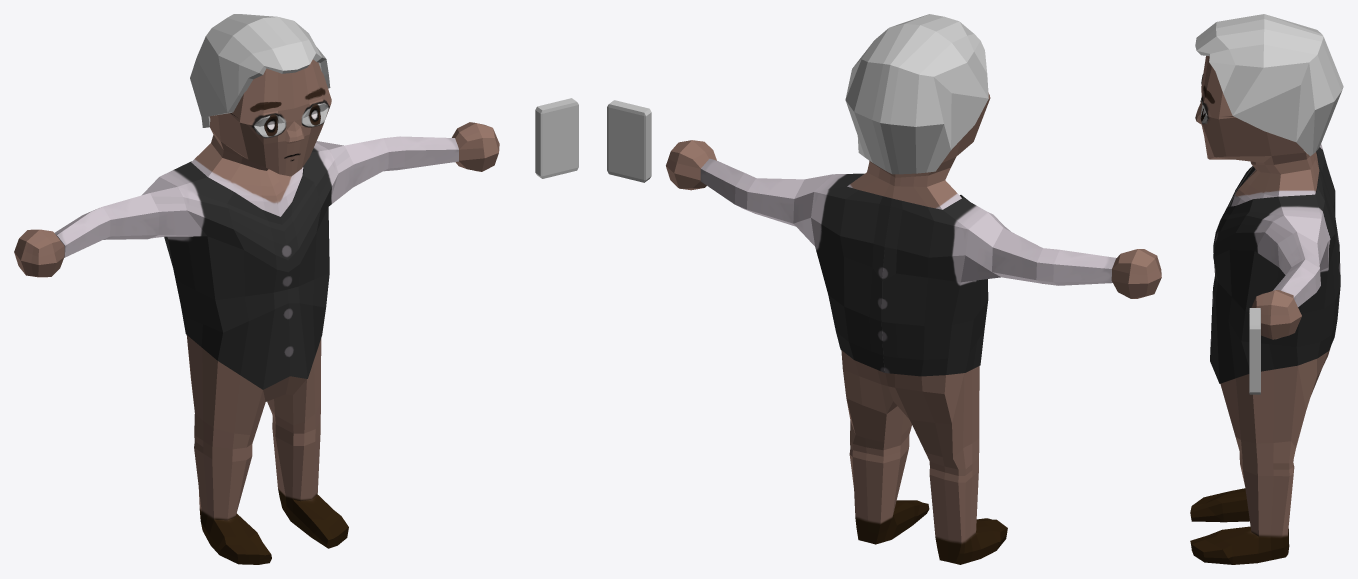
The model's file is Minion.fbx.
3 renders of one model, left to right at view 1: azimuth 30°, elevation 25°; view 2: azimuth 150°, elevation 25°; view 3: azimuth 270°, elevation 25°, orthographic. The views are drawn at different scales.
Visible parts, largest first — view 1: corpo, celular; view 2: corpo, celular; view 3: corpo, celular.
Boxes of the visible parts, x1=… form: corpo: x1=14, y1=14, x2=499, y2=564; celular: x1=535, y1=98, x2=578, y2=178; corpo: x1=666, y1=14, x2=1161, y2=564; celular: x1=607, y1=100, x2=651, y2=182; corpo: x1=1190, y1=14, x2=1343, y2=564; celular: x1=1249, y1=308, x2=1260, y2=394.
Bounding box in the file's own units: 1416 × 1264 × 340.
